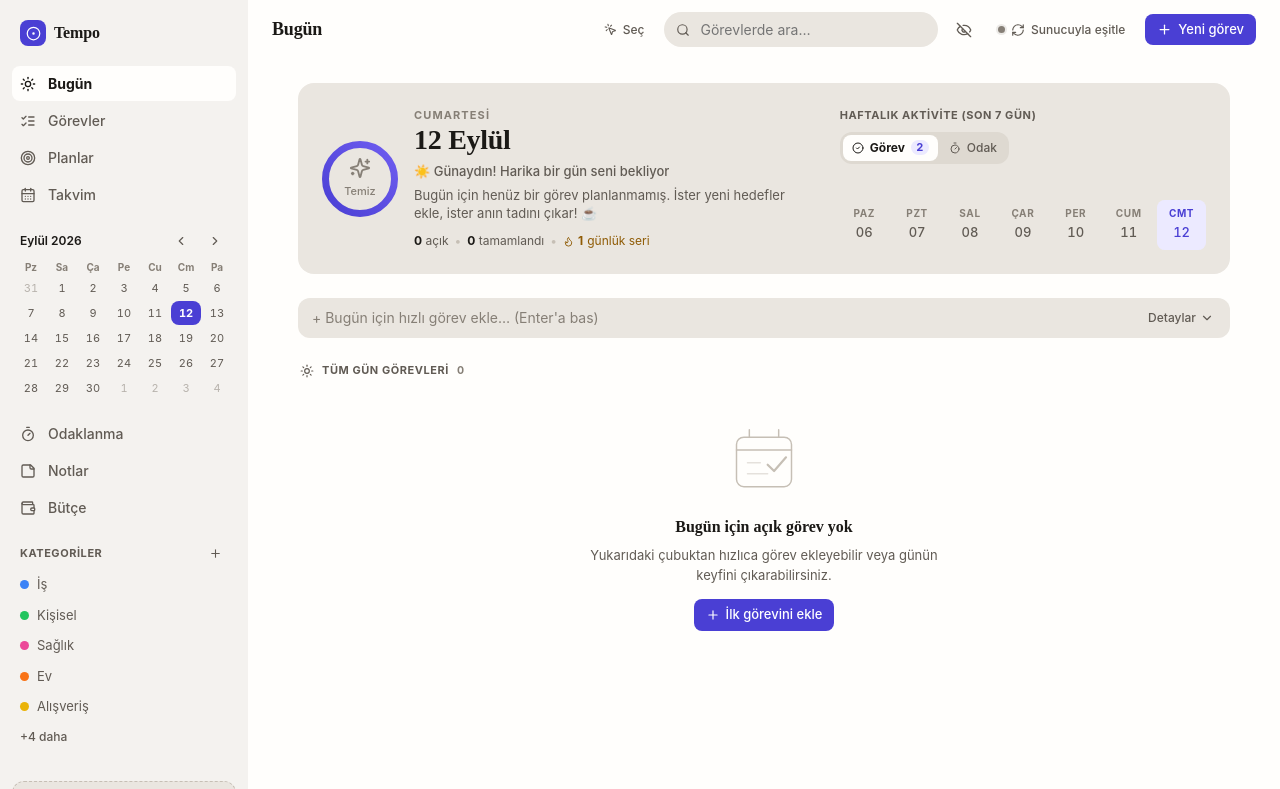
Scenario: picking plans in bulk › hands what is picked to the bulk bar, delete and all
This screenshot has width=1280, height=789.
Step 1. Click the button "Planlar" → (124, 158), box 12,140 -> 236,175
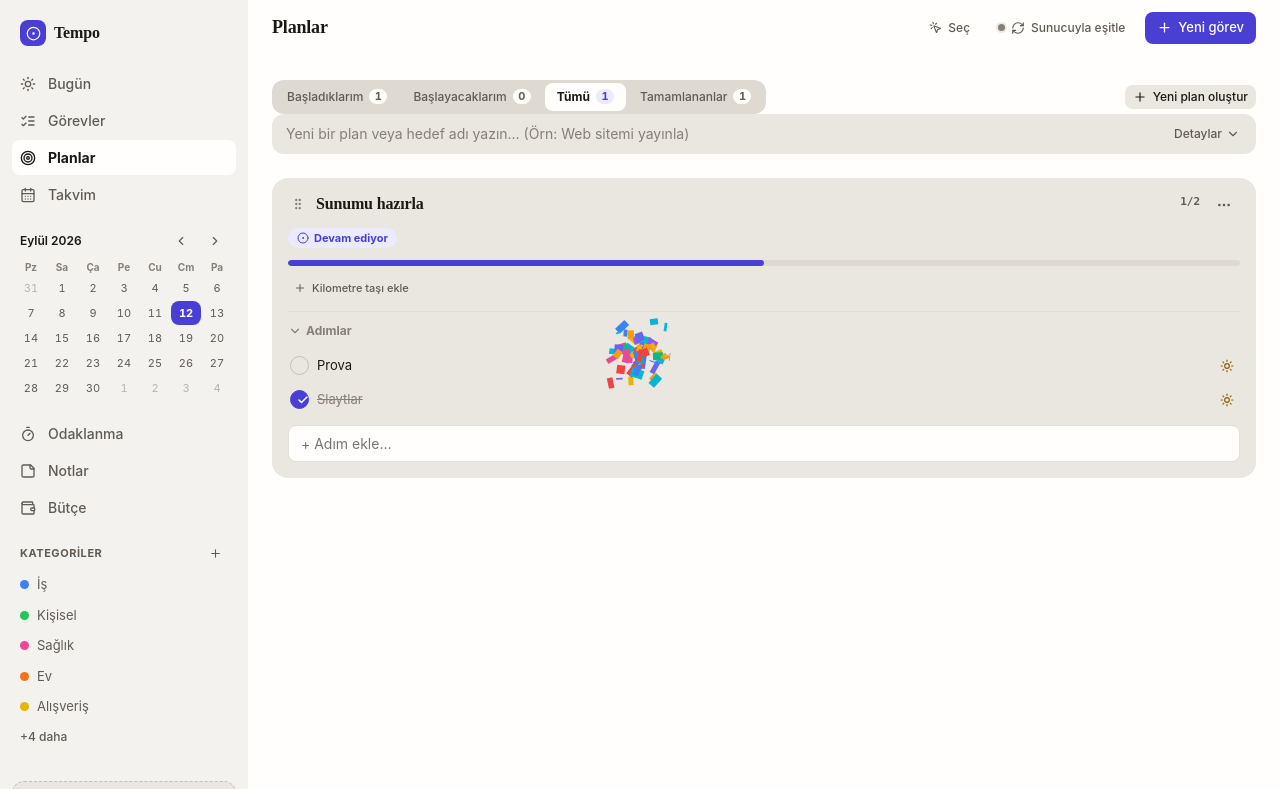
Step 2. Click the button "Seç" → (950, 28), box 921,16 -> 978,40
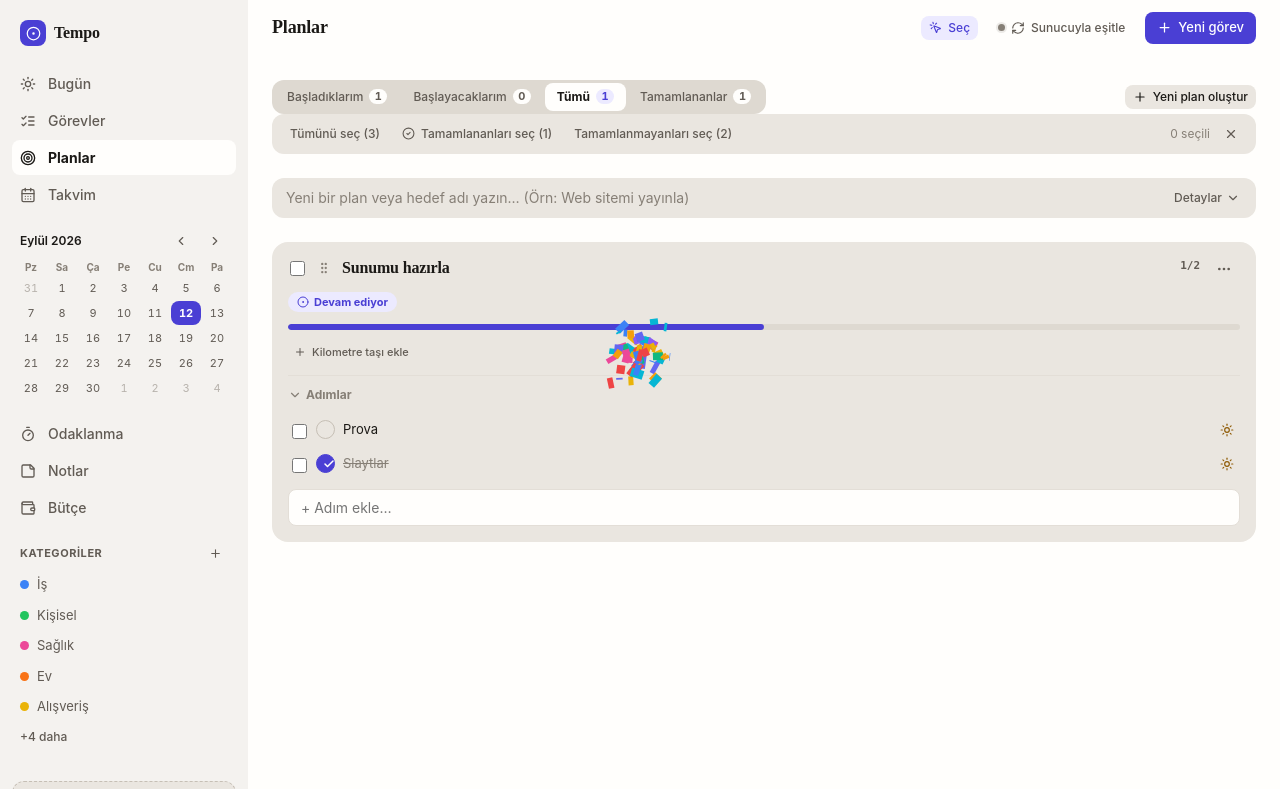
Step 3. Click the button "Tamamlananları seç (1)" → (477, 134), box 394,122 -> 560,146
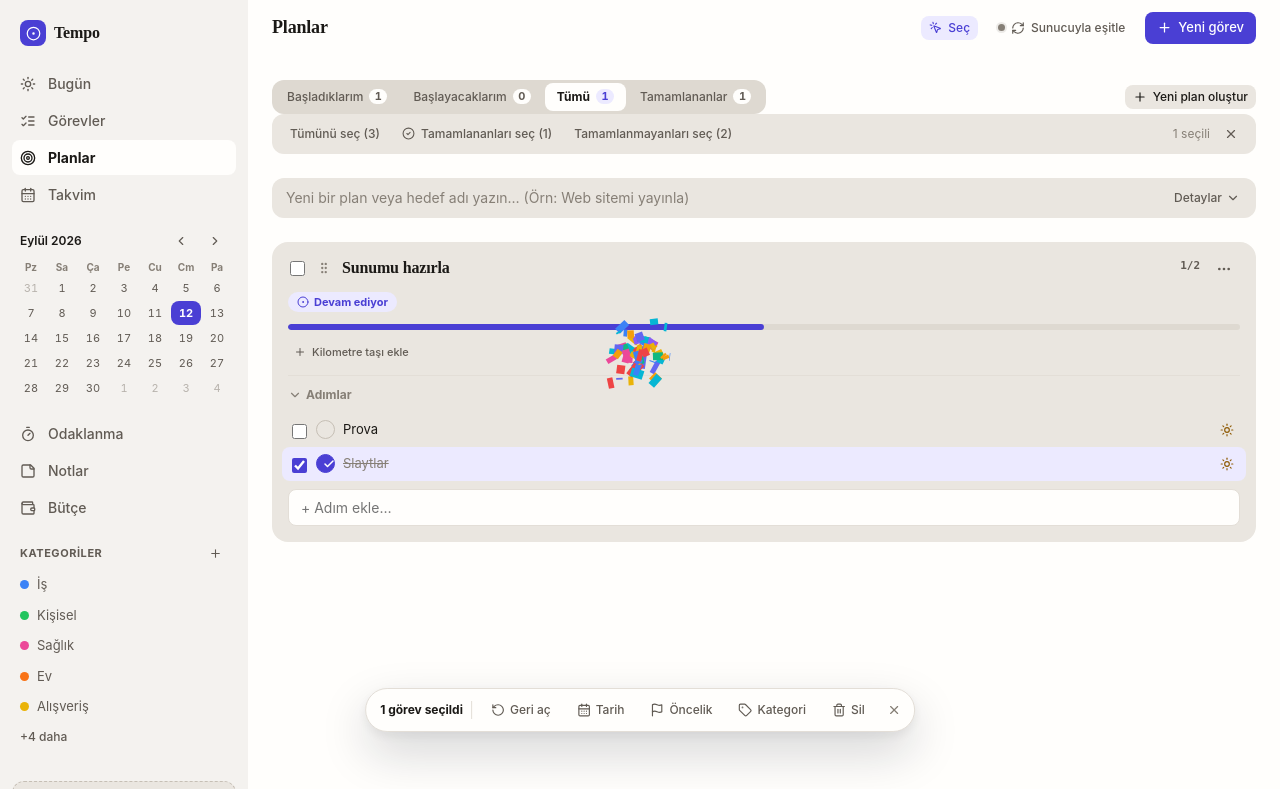
expect the element "1 görev seçildi Geri aç Tarih Öncelik Kategori Sil" is shown: met, box 365,688 -> 915,732
expect the button "Sil" is shown: met, box 821,695 -> 876,725
